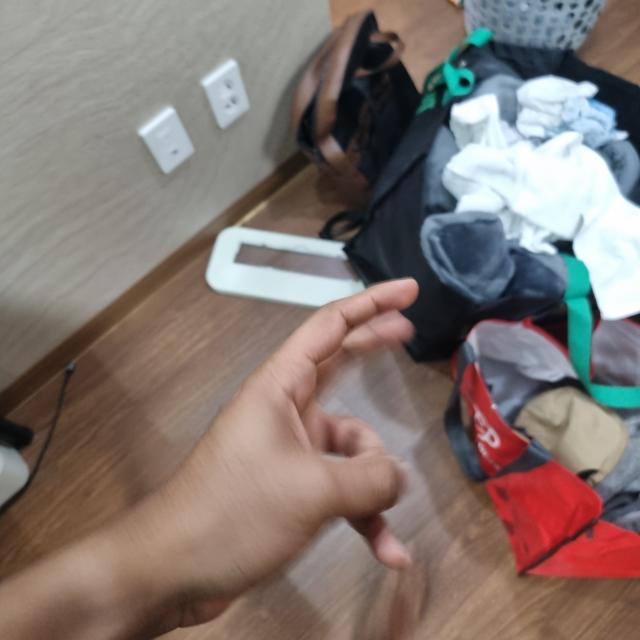Scissors: (116, 283, 416, 608)
